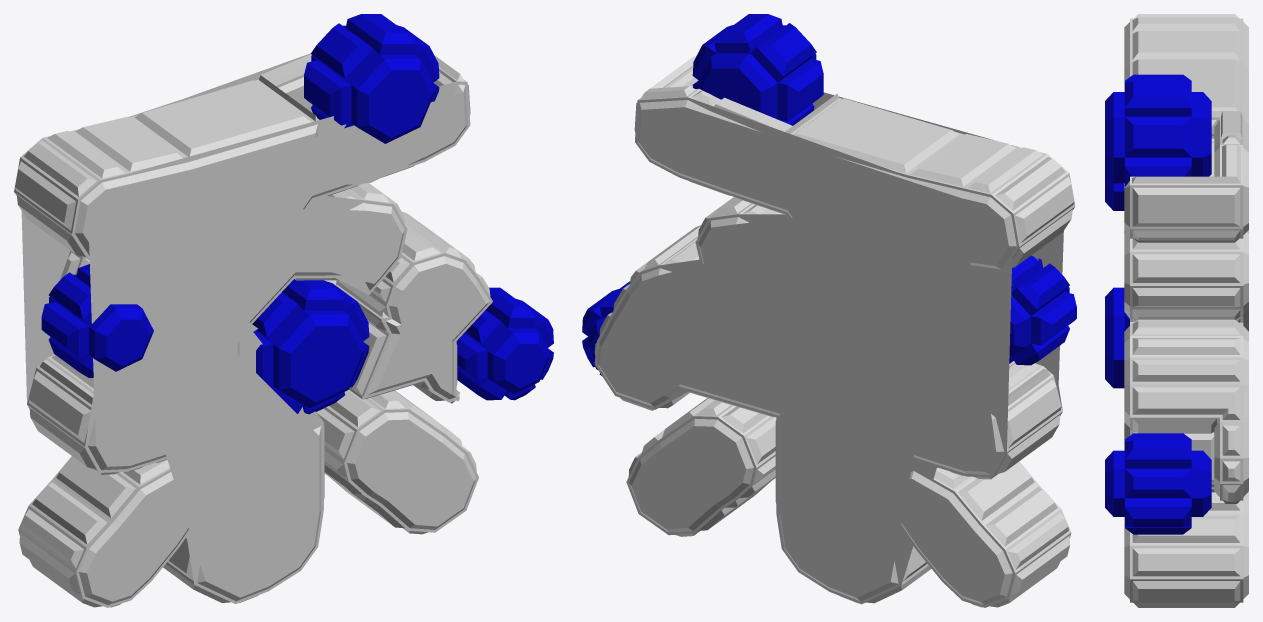
File: Ch_China_系_01.fbx
3 views of the same model, side by side, from view 1: azimuth 30°, elevation 25°; view 2: azimuth 150°, elevation 25°; view 3: azimuth 270°, elevation 25° (orthographic). The views are drawn at different scales.
Parts seen in each view (by area): view 1: sphere1; view 2: sphere1; view 3: sphere1.
Boxes of the visible parts, box(x1,y1,x2,y2) form: sphere1: box(14, 14, 553, 607); sphere1: box(582, 14, 1076, 607); sphere1: box(1105, 14, 1248, 607).
Bounding box in the file's own units: 0.9675 × 1.02 × 0.2541.
